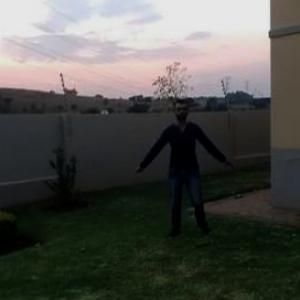land: (122, 94, 235, 237)
